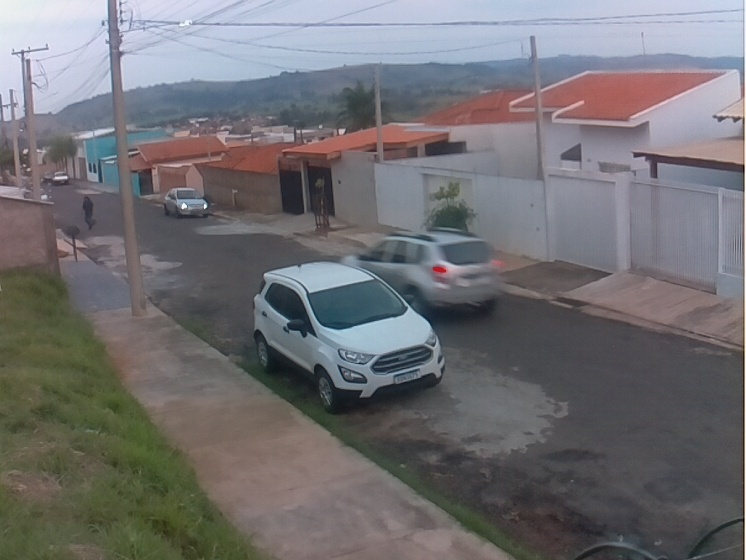person: (80, 194, 96, 231)
